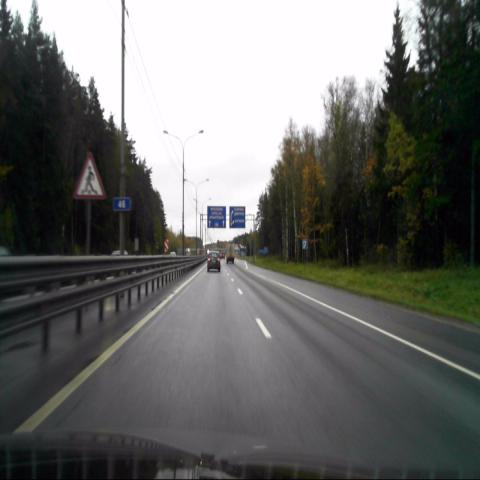1_22: (73, 151, 107, 200)
